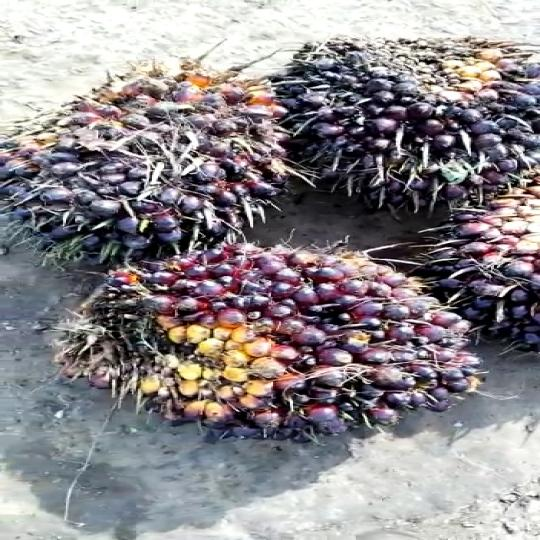kurang masak: (66, 244, 480, 444), (0, 63, 313, 251), (283, 36, 540, 206)
